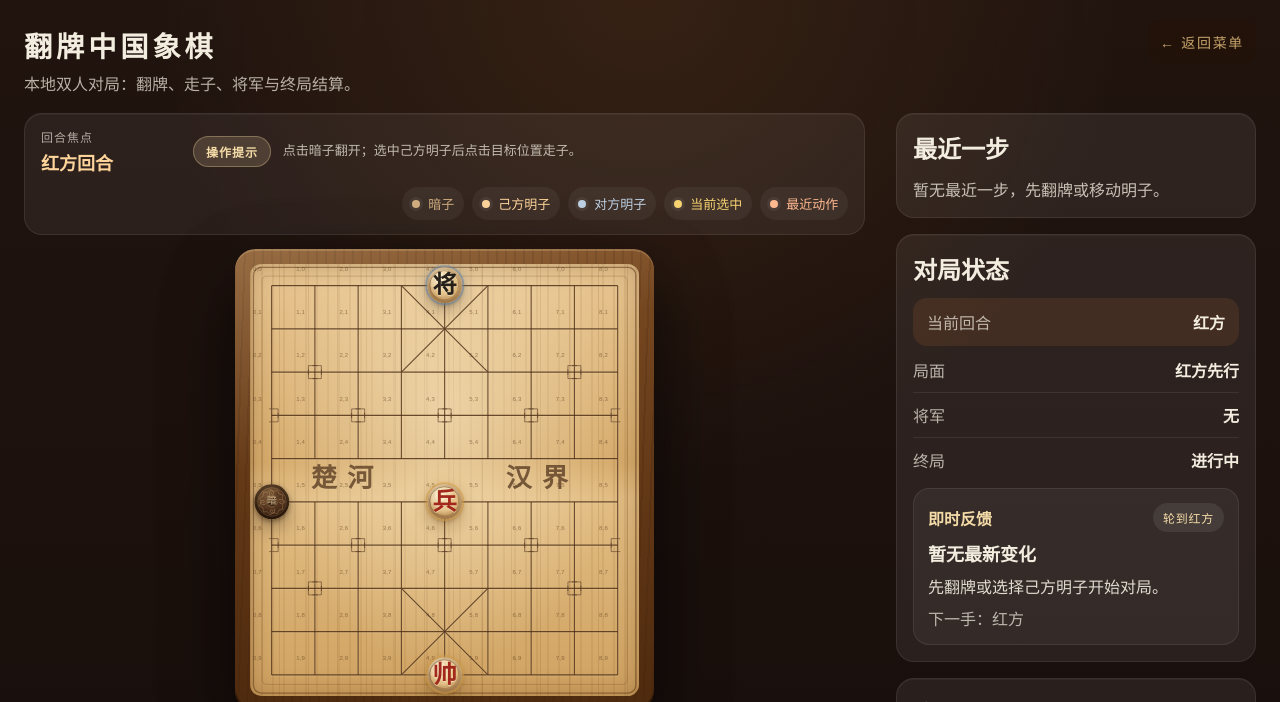
Test: board feedback effects › reveals immediately and skips transient effects under prefers-reduced-motion
Click the button with test id "cell-0-5": click(272, 502) [250, 480, 293, 523]
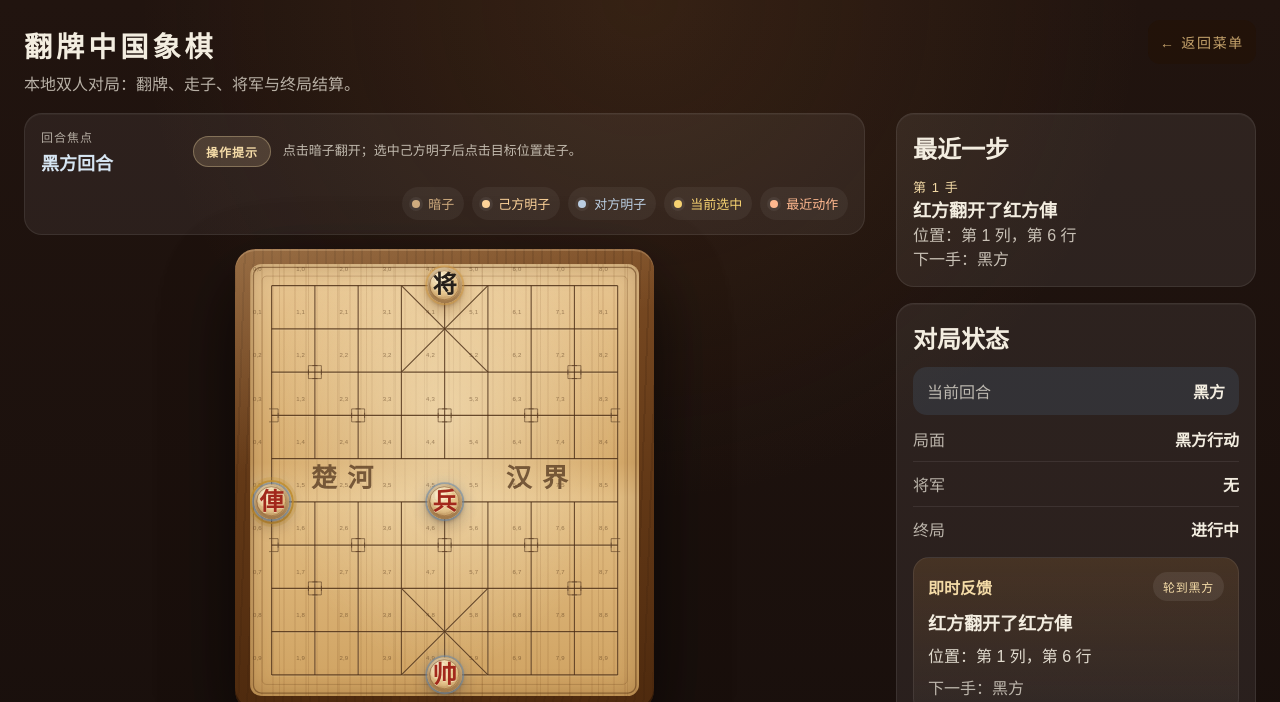
Now the button with test id "cell-0-5" shows "俥", box [250, 480, 293, 523]
Now the text "红方翻开了红方俥" below "即时反馈" is shown, box [928, 614, 1072, 634]
Click the button with test id "cell-4-0": click(445, 285) [423, 264, 466, 307]
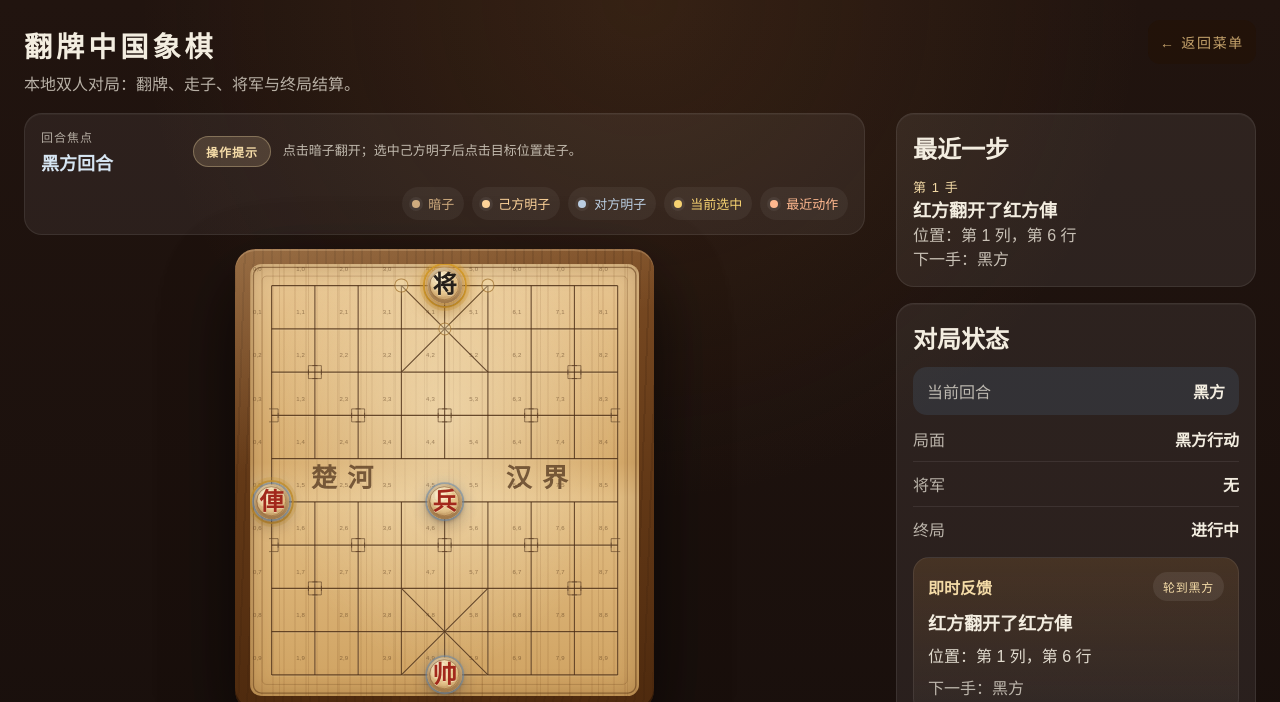
Click the button with test id "cell-3-0": click(401, 285) [380, 264, 423, 307]
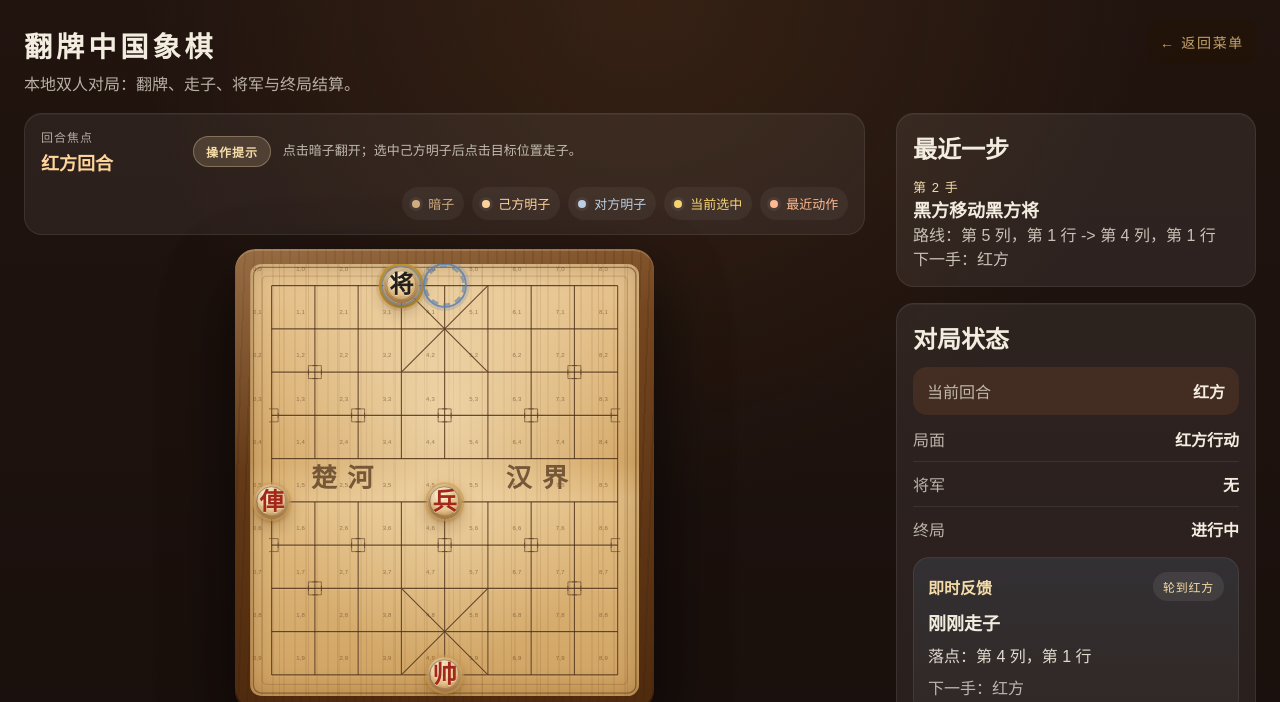
Now the text "刚刚走子" is shown, box [928, 614, 1000, 634]
